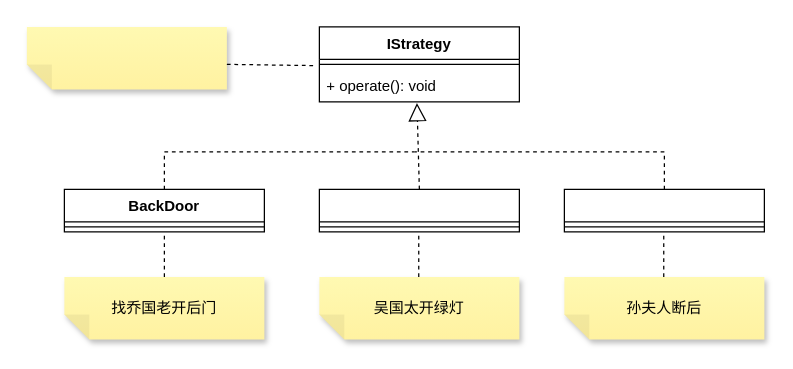
This 793x369 diagram has some shape labels left out. Each missing label, with the centre of its shape:
BlockEnemy: the point at 663,210
GivenGreenLight: the point at 418,210
策略总称: the point at 127,59
